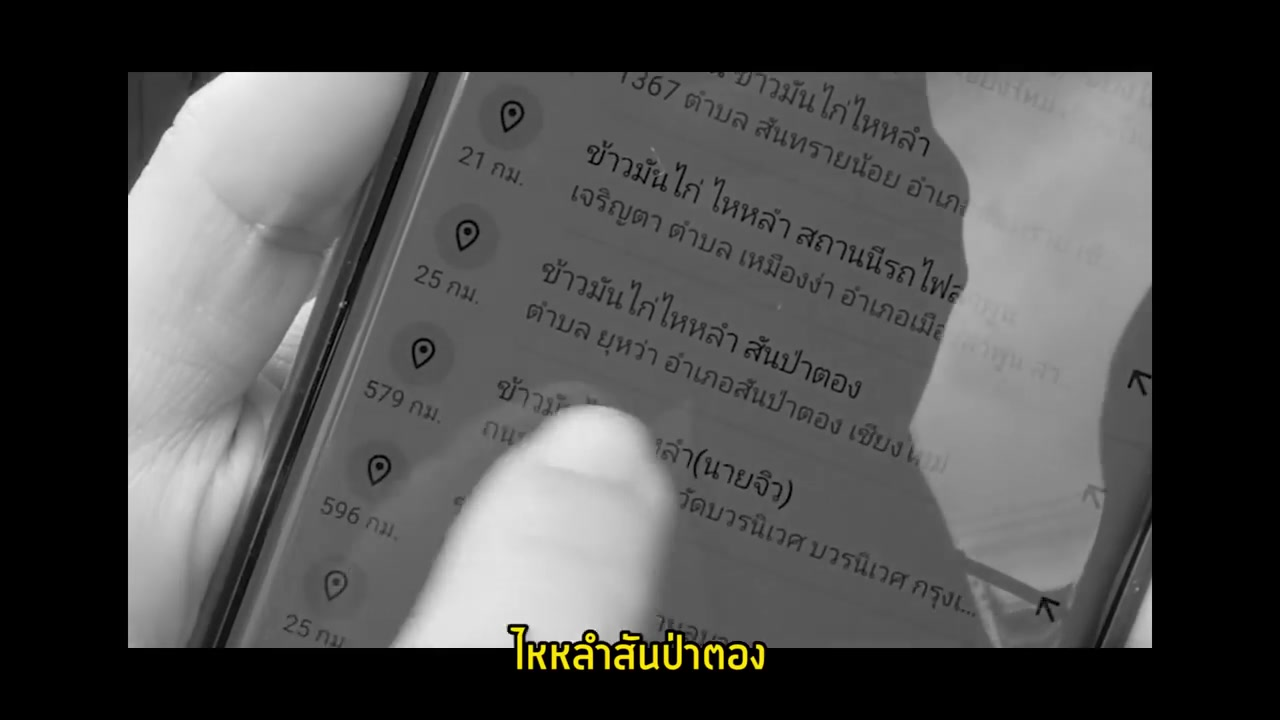text-label: (506, 616, 772, 674)
